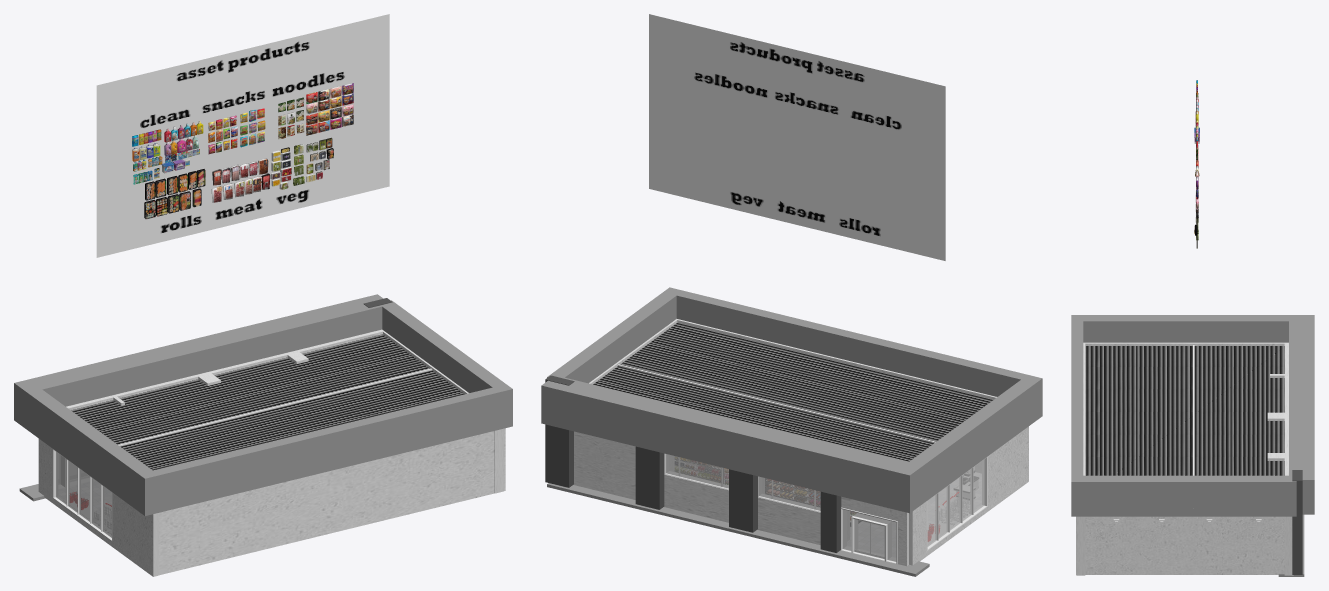
Rendered from supermarket.glb.
3 views of the same model, side by side, from view 1: azimuth 30°, elevation 25°; view 2: azimuth 150°, elevation 25°; view 3: azimuth 270°, elevation 25° (orthographic). The views are drawn at different scales.
Visible parts, largest first — view 1: Object_7011, Object_7060, Object_3946, Object_7074, Object_4, Object_43, Object_182, Object_254, Object_306, Object_996, Object_1206, Object_230 (+5 smaller); view 2: Object_7011, Object_7060, Object_7074, Object_3946, Object_43, Object_7052, Object_4, Object_6; view 3: Object_7074, Object_7060, Object_3946, Object_7052, Object_4.
Boxes of the visible parts, x1,y1,x2,y2 form: Object_7011: (96,14,389,257); Object_7060: (14,294,512,515); Object_3946: (38,329,505,576); Object_7074: (71,334,464,470); Object_4: (52,368,432,541); Object_43: (56,452,111,537); Object_182: (144,169,205,219); Object_254: (306,83,353,135); Object_306: (211,158,270,202); Object_996: (154,121,203,178); Object_1206: (132,129,162,184); Object_230: (208,115,237,154); Object_7011: (649,14,945,260); Object_7060: (541,287,1042,576); Object_7074: (593,322,993,461); Object_3946: (573,319,1028,566); Object_43: (666,454,984,561); Object_7052: (545,375,841,552); Object_4: (618,364,987,564); Object_6: (847,472,981,557); Object_7074: (1085,346,1284,475); Object_7060: (1071,315,1314,576); Object_3946: (1076,342,1293,575); Object_7052: (1292,470,1302,574); Object_4: (1113,345,1261,521).
Bounding box in the file's own units: 29.47 × 33.57 × 18.14.
31 materials, 18 textured.
